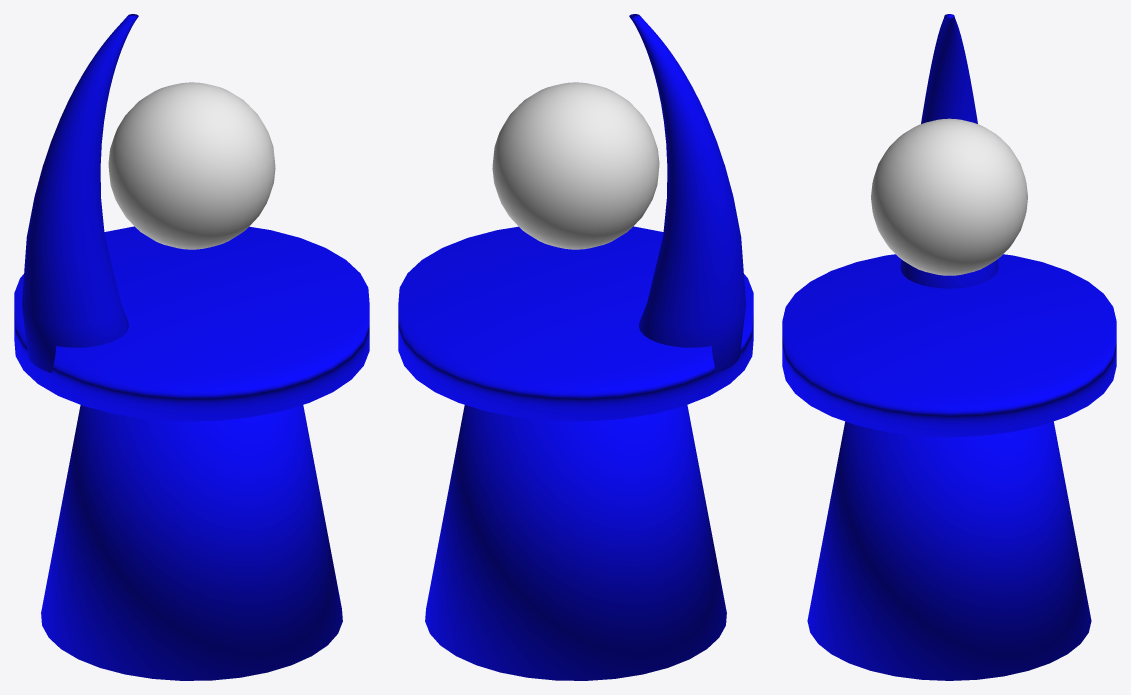
The model's file is Slow.fbx.
3 renders of one model, left to right at view 1: azimuth 30°, elevation 25°; view 2: azimuth 150°, elevation 25°; view 3: azimuth 270°, elevation 25°, orthographic. The views are drawn at different scales.
Parts seen in each view (by area): view 1: Cylinder, Cylinder.001, Sphere, Cylinder.002; view 2: Cylinder, Cylinder.001, Sphere, Cylinder.002; view 3: Cylinder, Cylinder.001, Sphere, Cylinder.002.
Boxes of the visible parts, x1,y1,x2,y2 form: Cylinder: [41, 405, 342, 680]; Cylinder.001: [14, 226, 369, 421]; Sphere: [108, 82, 275, 249]; Cylinder.002: [22, 14, 138, 372]; Cylinder: [425, 405, 726, 680]; Cylinder.001: [398, 226, 753, 421]; Sphere: [492, 82, 659, 249]; Cylinder.002: [629, 14, 745, 372]; Cylinder: [807, 421, 1091, 680]; Cylinder.001: [782, 254, 1116, 437]; Sphere: [871, 118, 1027, 275]; Cylinder.002: [900, 14, 998, 288].
Bounding box in the file's own units: 141 × 262 × 137.
